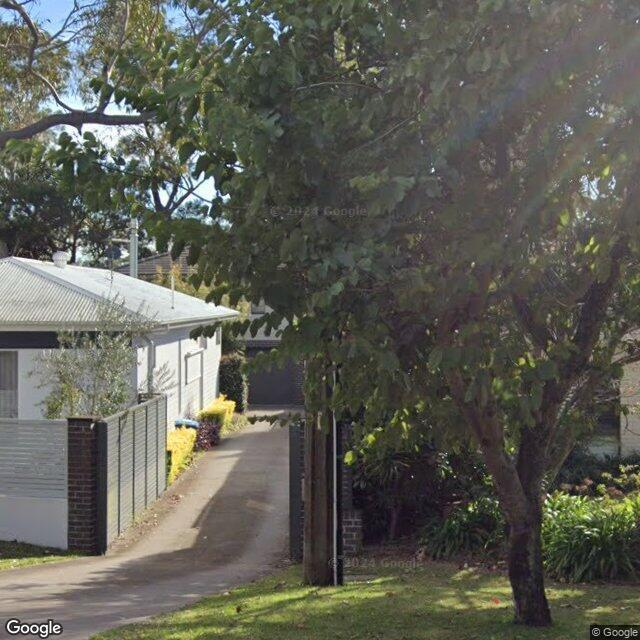timber-pole: (302, 354, 344, 588)
